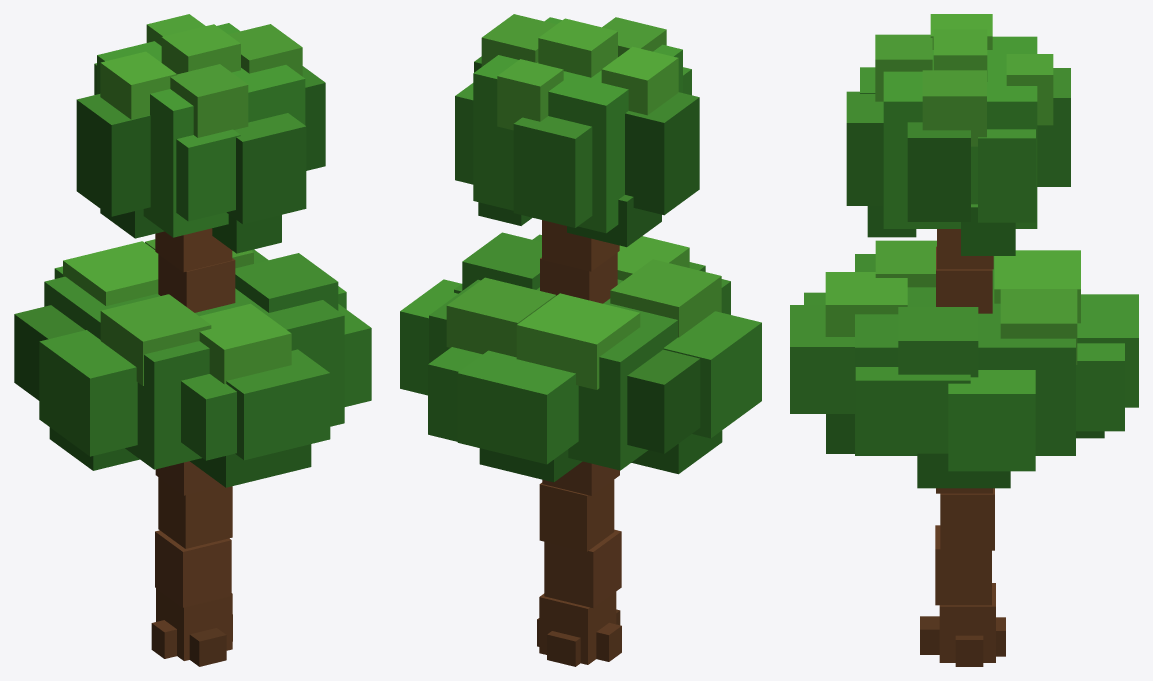
Rendered from tree_tall.glb.
3 renders of one model, left to right at view 1: azimuth 30°, elevation 25°; view 2: azimuth 150°, elevation 25°; view 3: azimuth 270°, elevation 25°, orthographic.
Visible parts, largest first — view 1: tree_tall; view 2: tree_tall; view 3: tree_tall.
Part boxes in pixels (bbox=[...]): tree_tall: bbox=[14, 14, 371, 666]; tree_tall: bbox=[400, 14, 761, 666]; tree_tall: bbox=[790, 14, 1138, 666].
Bounding box in the file's own units: 3.36 × 6.8 × 3.52.
